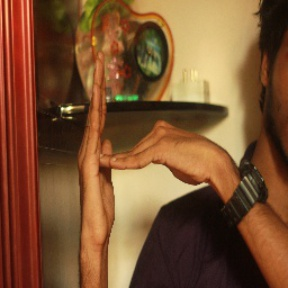Z: (75, 49, 213, 240)
